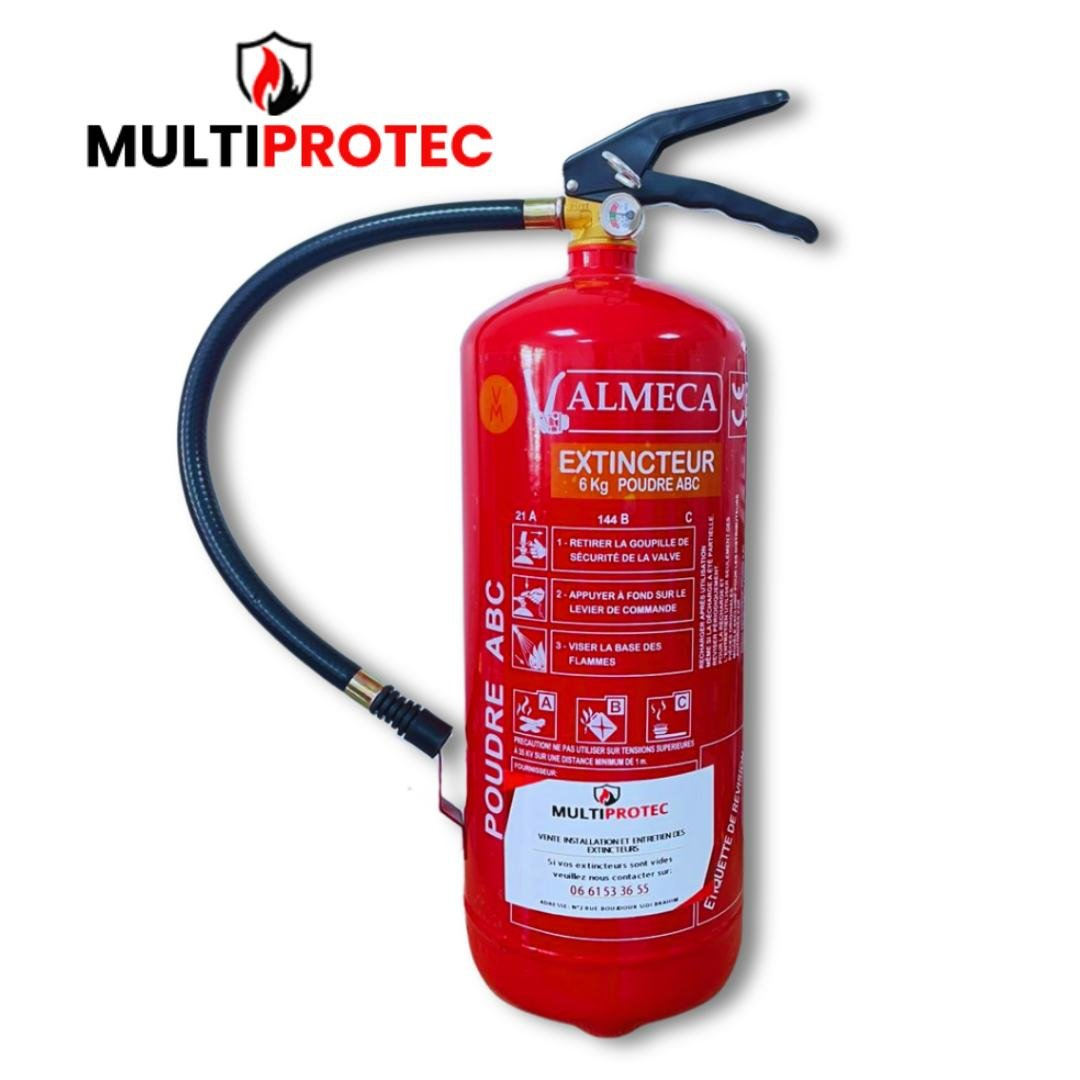Extincteur: (240, 512, 469, 858)
